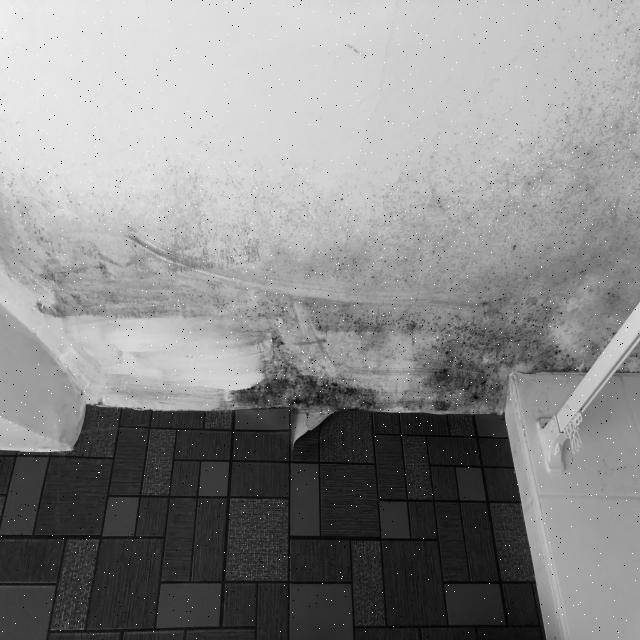stain marks: (0, 1, 640, 408)
